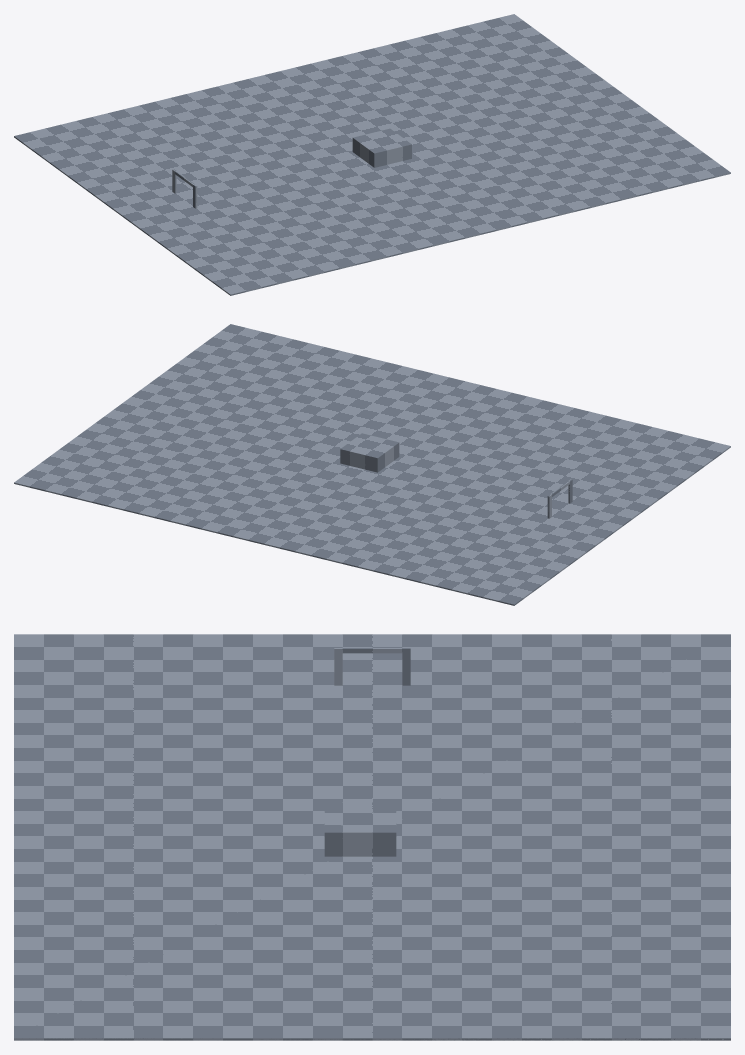
The model's file is walk-village_east.gltf.
3 views of the same model, one above another, from view 1: azimuth 30°, elevation 25°; view 2: azimuth 150°, elevation 25°; view 3: azimuth 270°, elevation 25° (orthographic). The views are drawn at different scales.
Visible parts, largest first — view 1: Ground and gate; view 2: Ground and gate; view 3: Ground and gate.
Boxes of the visible parts, <box> form: Ground and gate: <box>14,14,730,295</box>; Ground and gate: <box>14,324,730,605</box>; Ground and gate: <box>14,634,730,1040</box>.
Size of what is drawn, in the model's own units: 80 by 3.6 by 60.
Materials: 1 (1 with a texture image).
